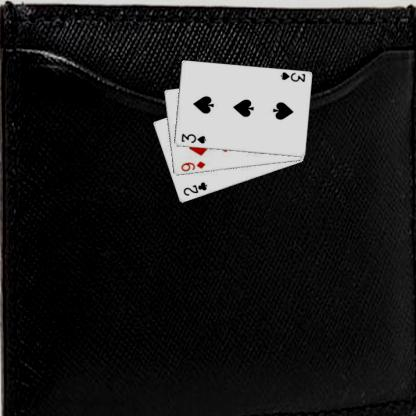2C: (181, 180, 208, 198)
3S: (178, 132, 207, 146), (278, 70, 306, 83)
9D: (178, 158, 206, 172)
